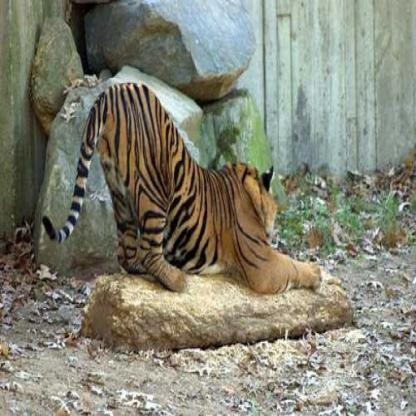Tiger: (41, 69, 330, 298)
